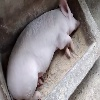heo: (4, 1, 84, 98)
